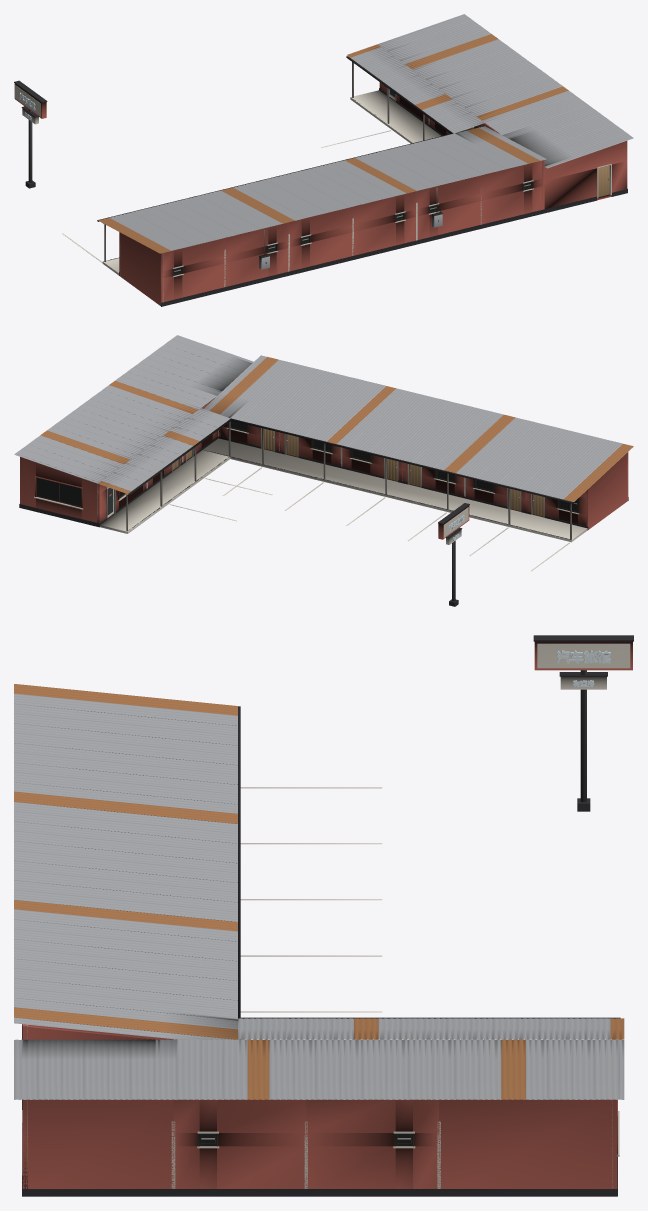
File: motel.glb
The picture shows the model from 3 angles, top to bottom: view 1: azimuth 30°, elevation 25°; view 2: azimuth 150°, elevation 25°; view 3: azimuth 270°, elevation 25°; orthographic projection. The views are drawn at different scales.
Parts seen in each view (by area): view 1: PART; view 2: PART; view 3: PART.
Part boxes in pixels (<box>): PART: <box>14,14,633,306</box>; PART: <box>14,335,633,606</box>; PART: <box>14,635,633,1196</box>.
Size of the model in its own units: 33.95 by 6.51 by 21.38.
